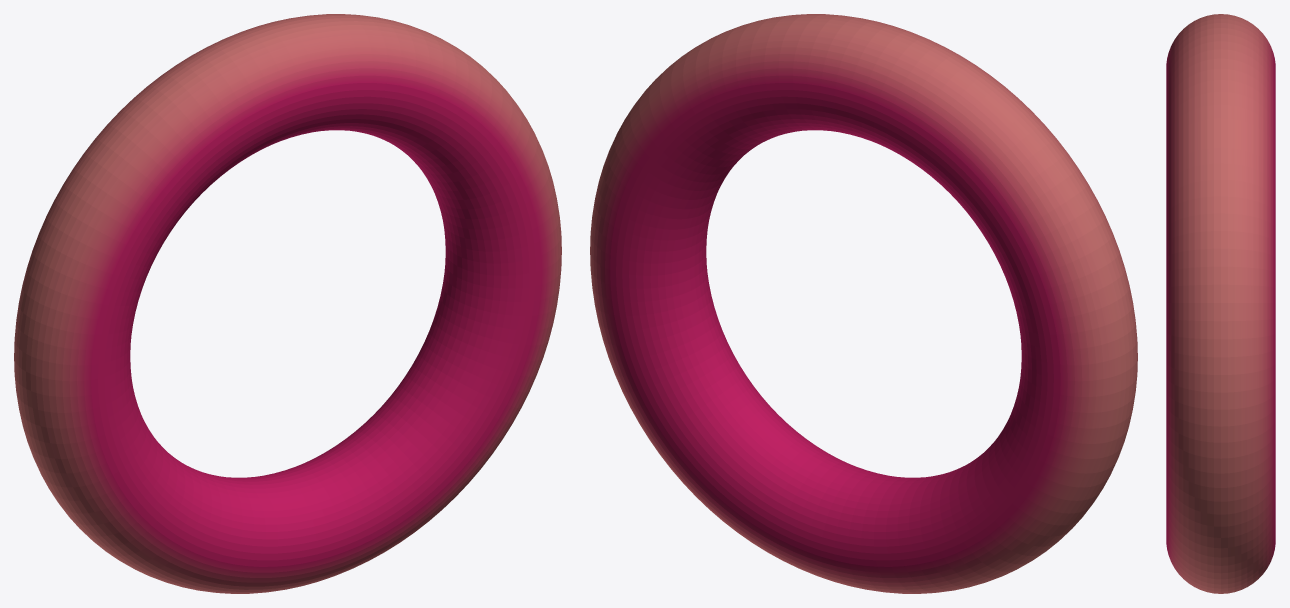
3 renders of one model, left to right at view 1: azimuth 30°, elevation 25°; view 2: azimuth 150°, elevation 25°; view 3: azimuth 270°, elevation 25°, orthographic. The views are drawn at different scales.
Visible parts, largest first — view 1: world; view 2: world; view 3: world.
Boxes of the visible parts, x1,y1,x2,y2 form: world: [14, 14, 561, 593]; world: [590, 14, 1137, 593]; world: [1166, 14, 1275, 593].
Size of the model in its own units: 34.53 by 34.53 by 6.52.
